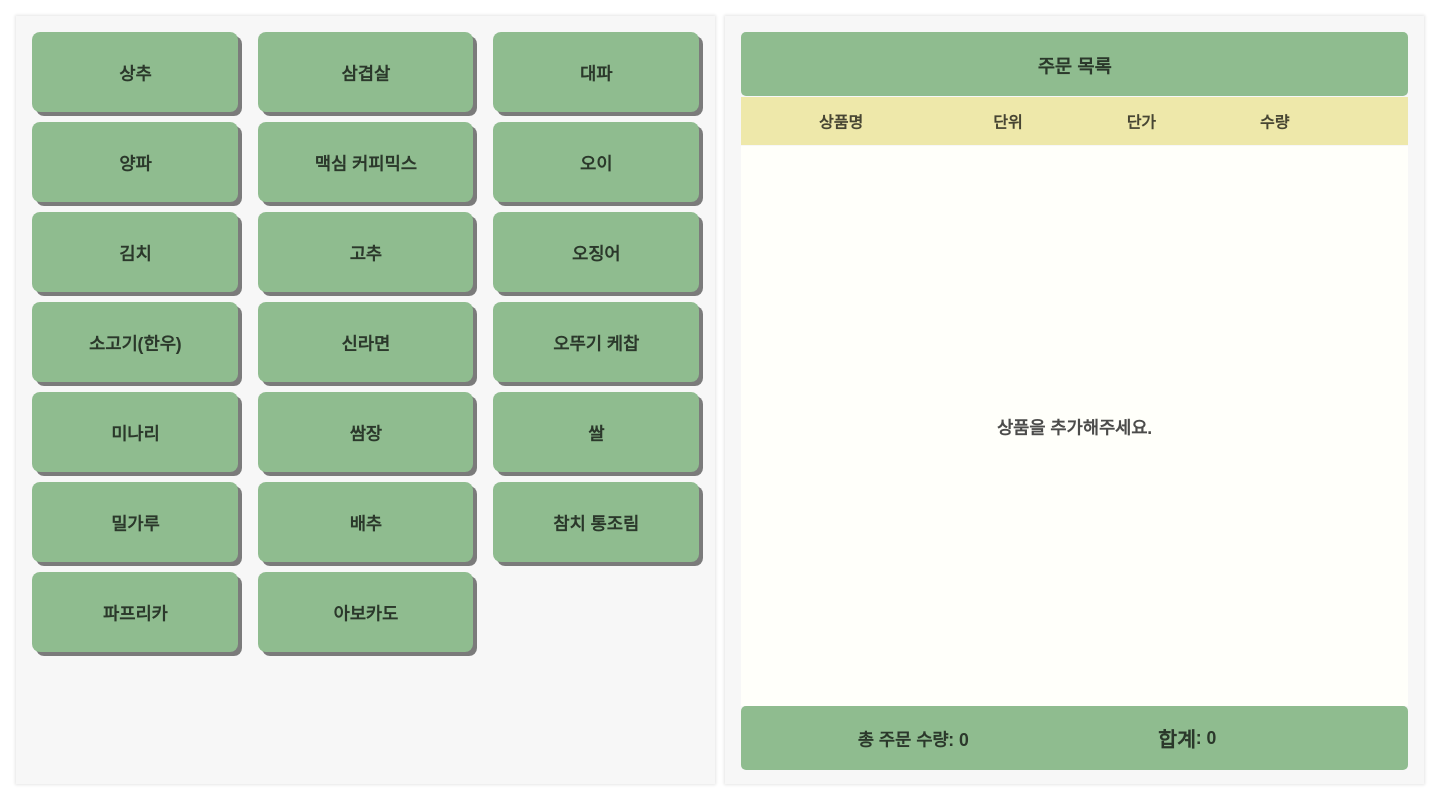
it: 마켓보로 애플리케이션 테스트 › 주문목록에서 수량은 사용자가 입력할 수 있습니다.
The width and height of the screenshot is (1440, 800).
Click the button "상추".
click(135, 72)  # box [32, 32, 238, 112]
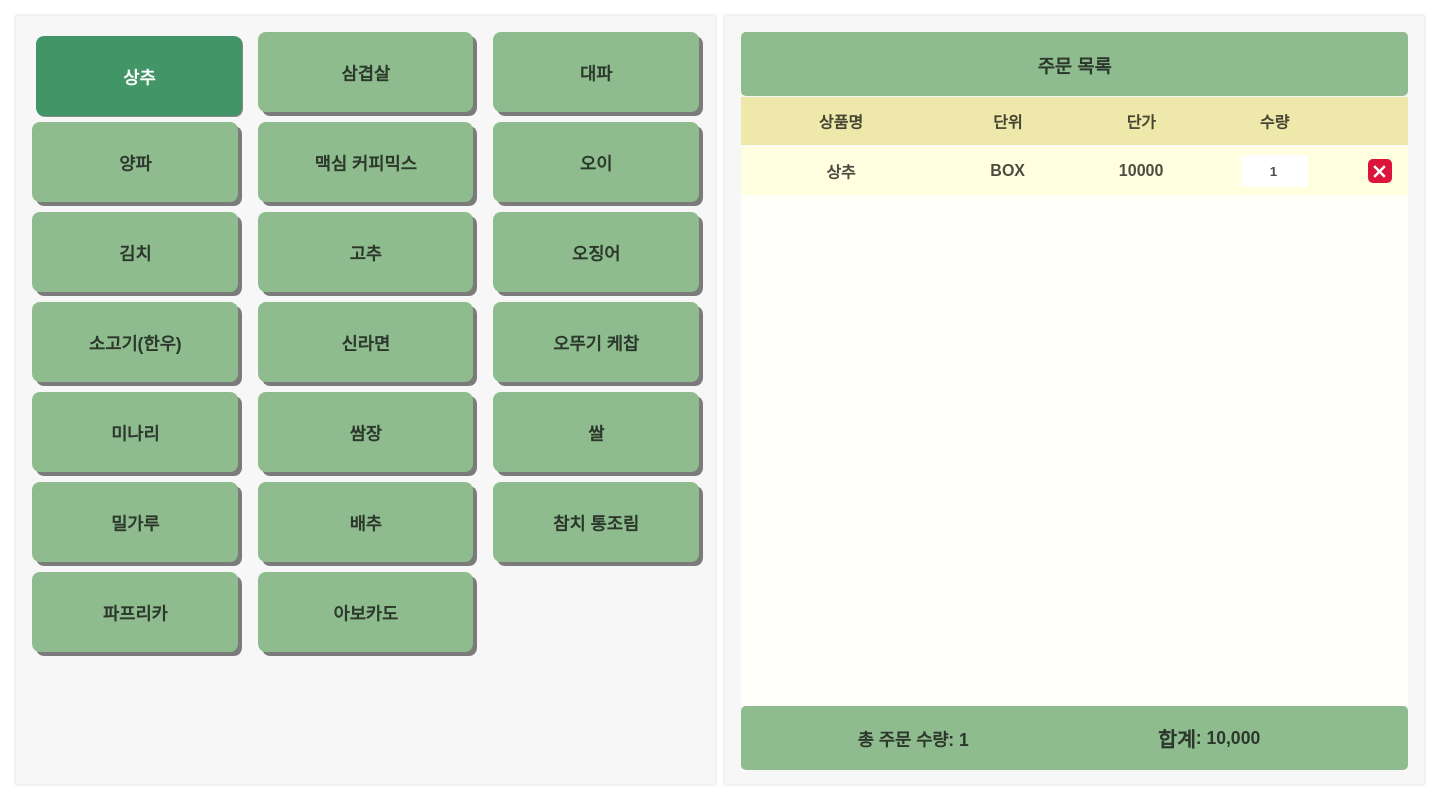
Type "234" into the number field with test id "input".
click(1275, 171); type("234")  # box [1241, 155, 1308, 187]
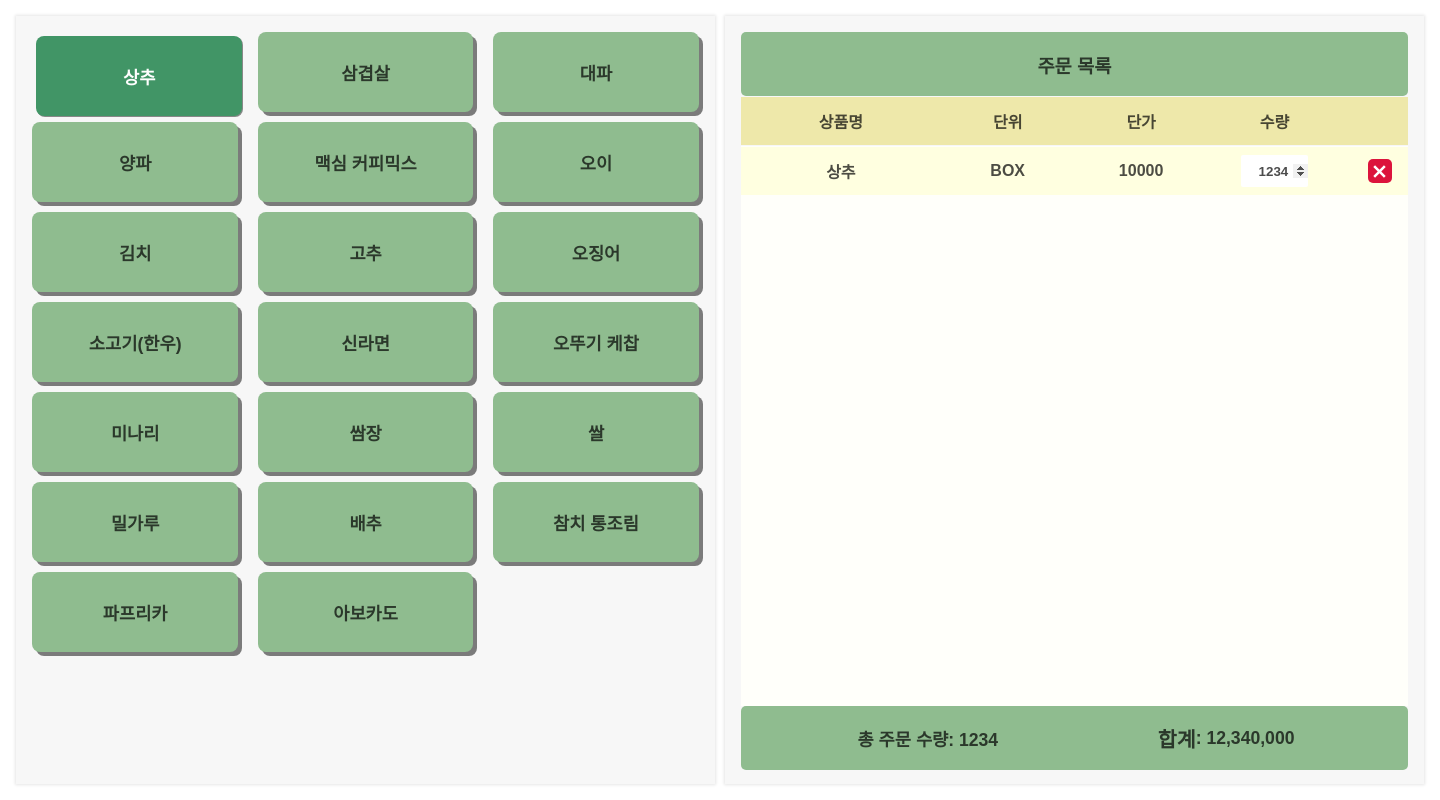
Result: the number field with test id "input" holds "1234" at [1241, 155, 1308, 187]
